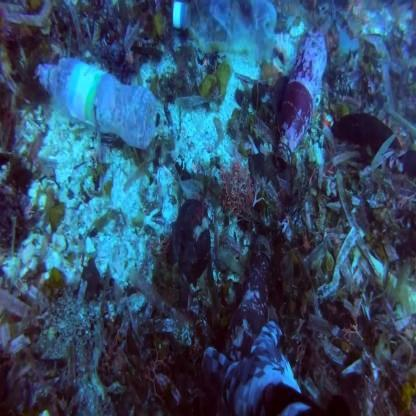gbottle: (288, 38, 334, 209), (238, 242, 267, 386)
pbottle: (30, 46, 158, 188), (150, 0, 282, 70)
